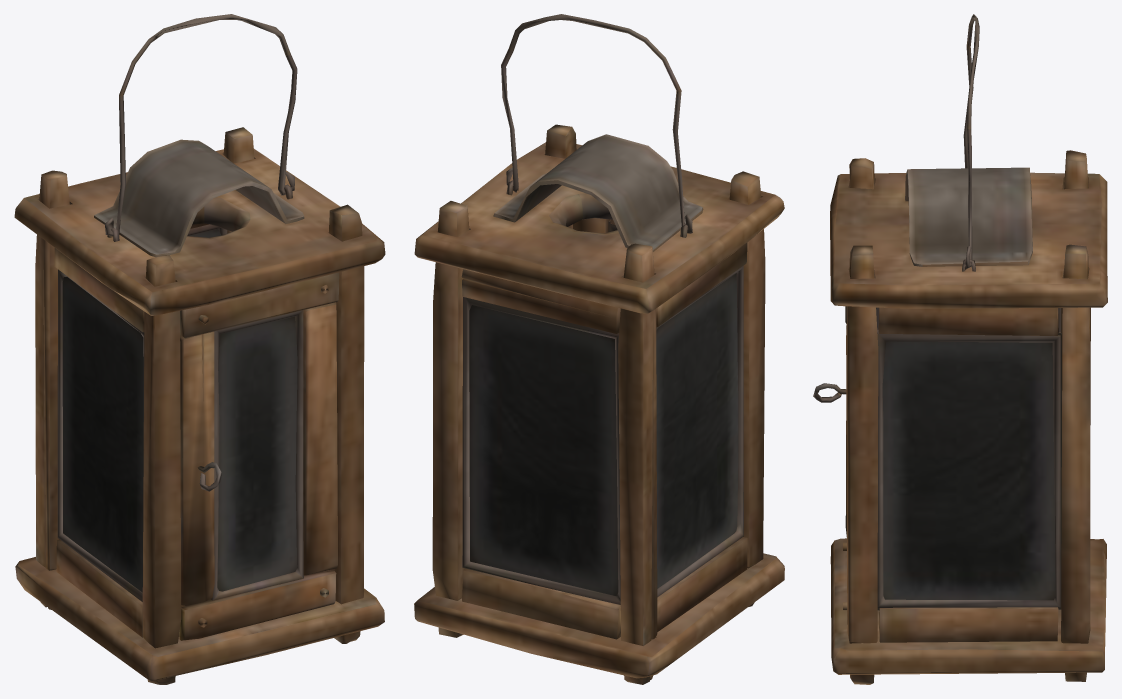
The model's file is th_gartenlaterne.glb.
3 views of the same model, side by side, from view 1: azimuth 30°, elevation 25°; view 2: azimuth 150°, elevation 25°; view 3: azimuth 270°, elevation 25° (orthographic).
Parts seen in each view (by area): view 1: wooden_lantern_01, wooden_lantern_01_door, wooden_lantern_01_handle; view 2: wooden_lantern_01, wooden_lantern_01_handle; view 3: wooden_lantern_01, wooden_lantern_01_handle, wooden_lantern_01_door.
Boxes of the visible parts, bbox=[...] form: wooden_lantern_01: bbox=[14, 127, 385, 684]; wooden_lantern_01_door: bbox=[179, 272, 339, 640]; wooden_lantern_01_handle: bbox=[105, 14, 297, 235]; wooden_lantern_01: bbox=[414, 124, 784, 684]; wooden_lantern_01_handle: bbox=[501, 14, 692, 232]; wooden_lantern_01: bbox=[830, 150, 1107, 684]; wooden_lantern_01_handle: bbox=[963, 14, 979, 268]; wooden_lantern_01_door: bbox=[813, 306, 847, 624].
Size of the model in its own units: 0.221 by 0.5296 by 0.2337.
Materials: 2 (2 with a texture image).
